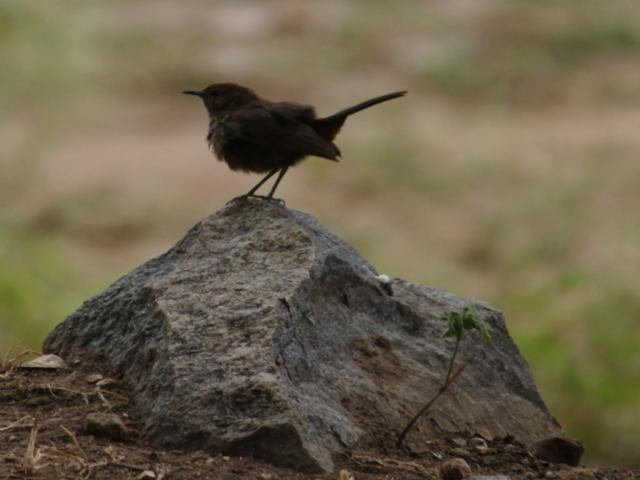Bird: (178, 81, 408, 205)
